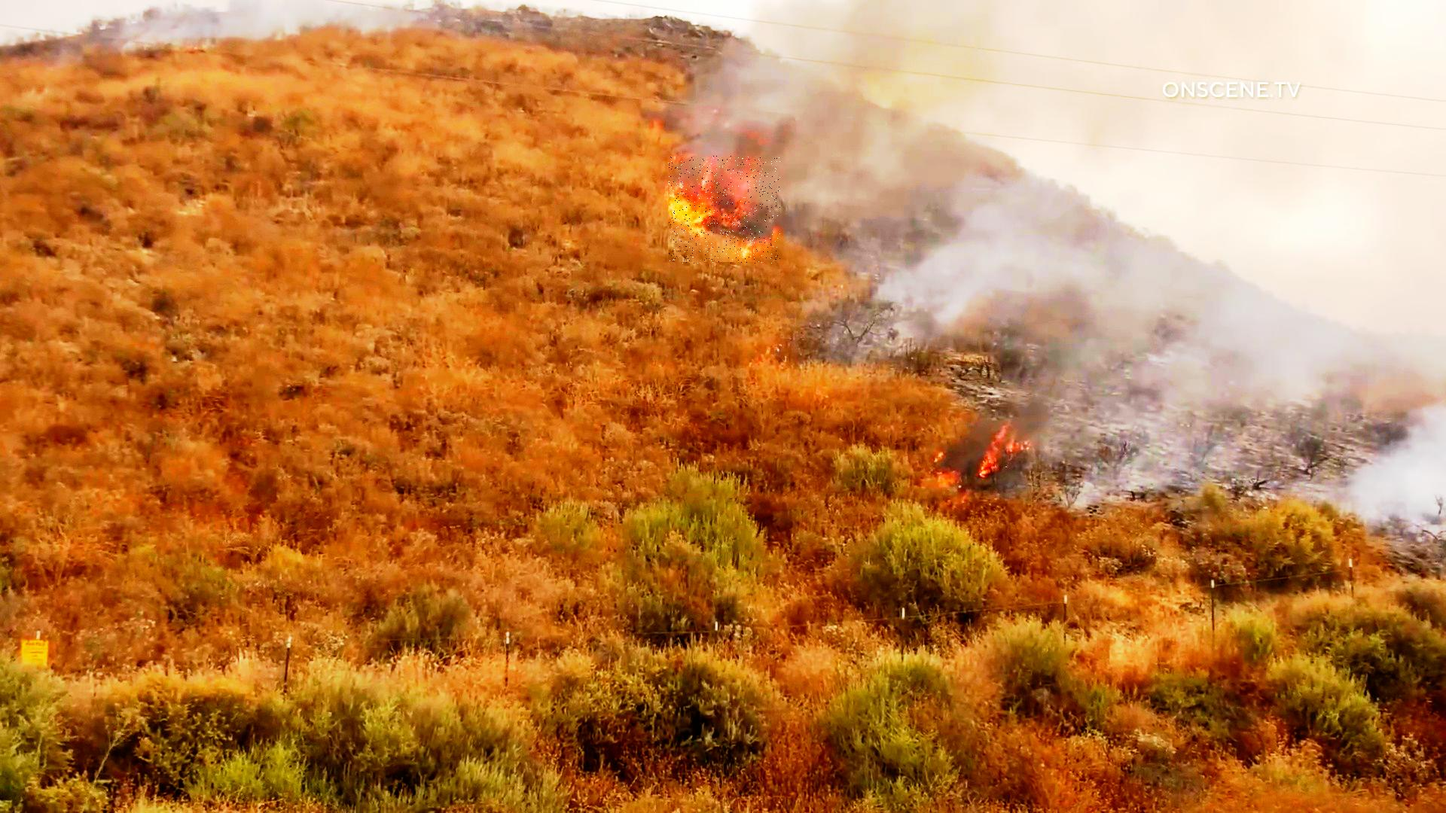fire: (669, 156, 781, 264)
